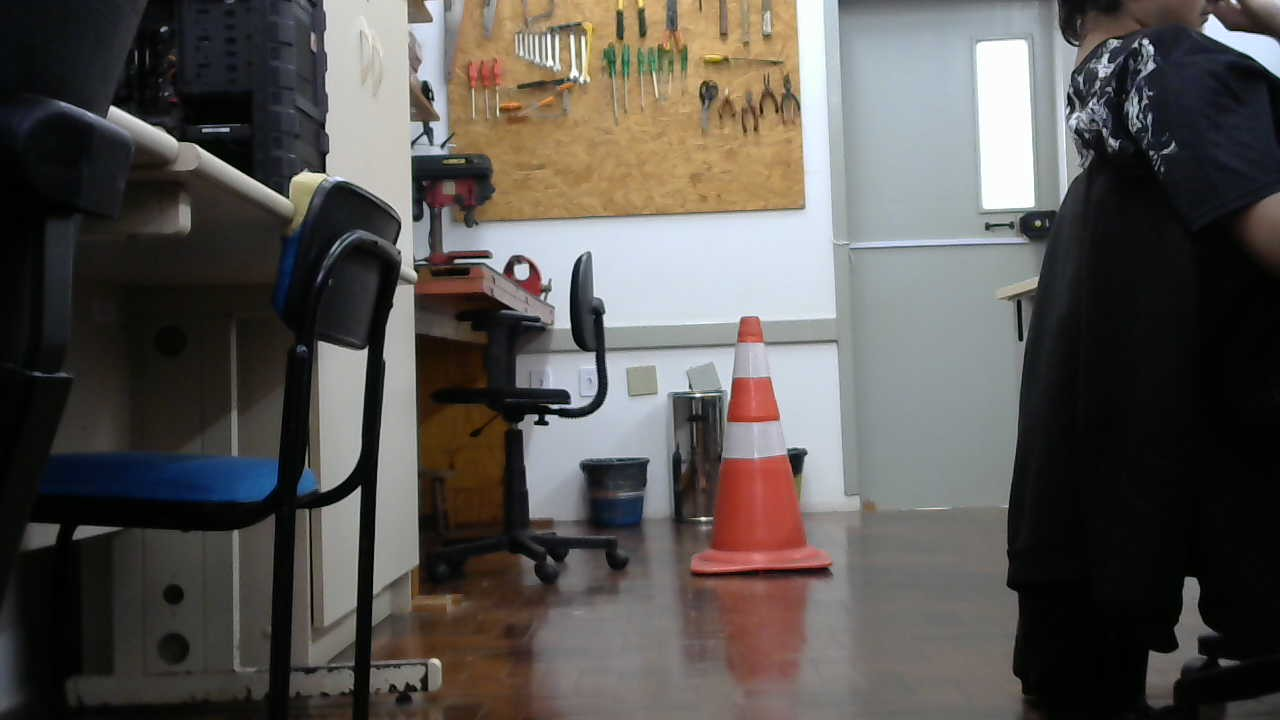cone: (691, 315, 834, 574)
